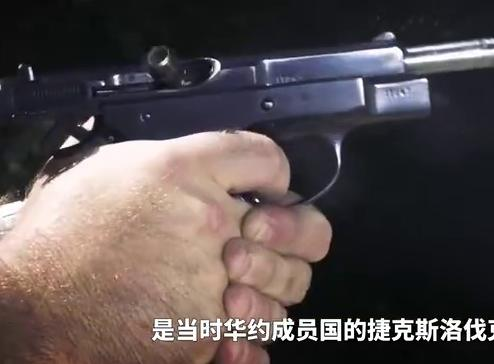gun: (0, 1, 494, 364)
